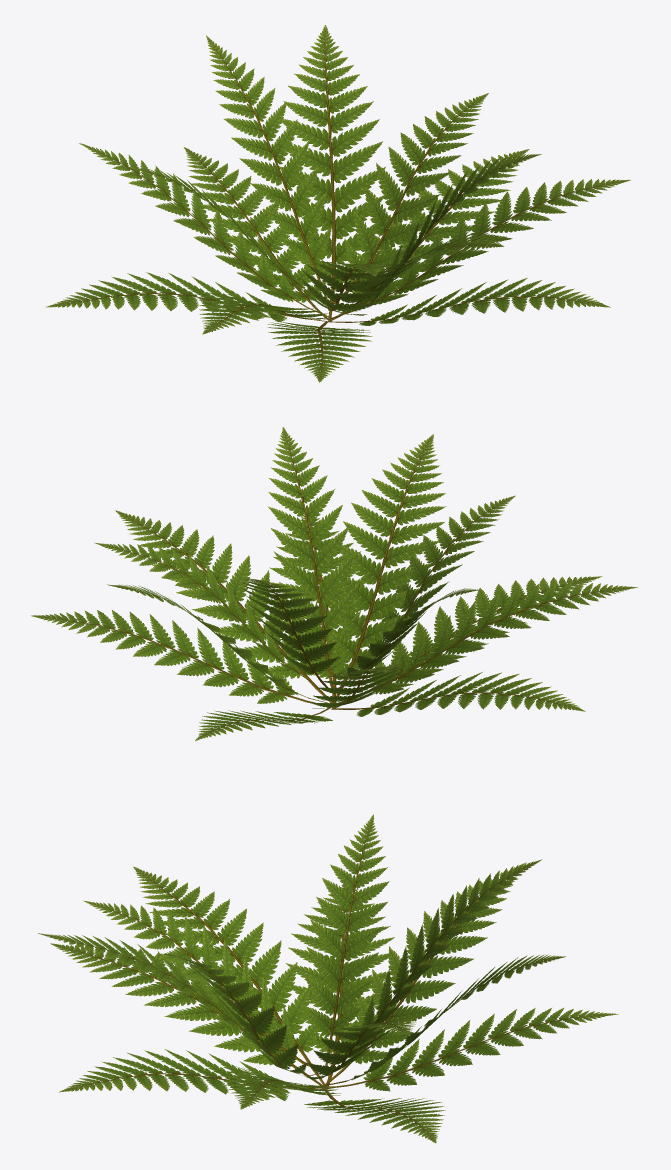
The model's file is fern.fbx.
3 renders of one model, top to bottom at view 1: azimuth 30°, elevation 25°; view 2: azimuth 150°, elevation 25°; view 3: azimuth 270°, elevation 25°, orthographic. The views are drawn at different scales.
Visible parts, largest first — view 1: fern; view 2: fern; view 3: fern.
Part boxes in pixels (x1,y1,x2,y2): fern: [46, 25, 630, 382]; fern: [30, 427, 637, 740]; fern: [38, 814, 618, 1143].
Bounding box in the file's own units: 191 × 72.77 × 183.
1 material, 1 textured.
